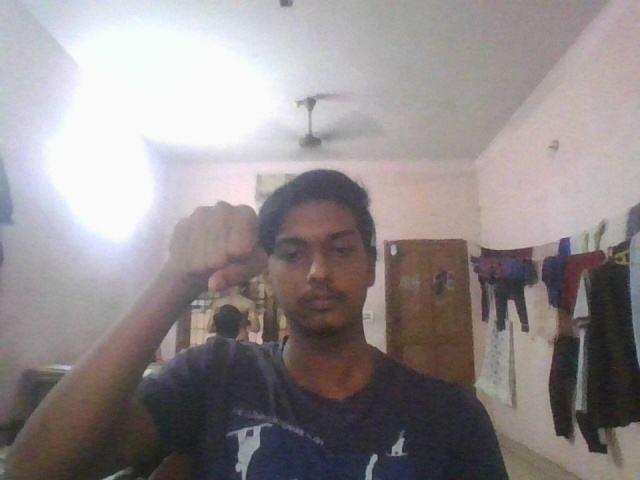yes: (157, 196, 275, 304)
